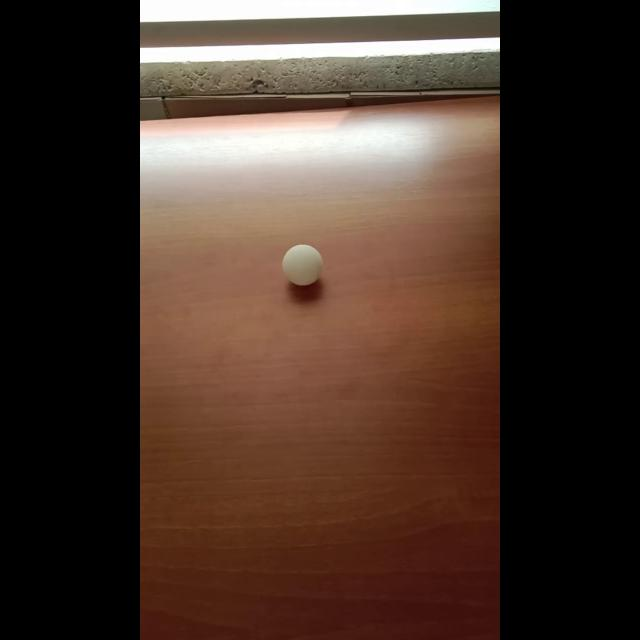white ball: (281, 244, 323, 286)
